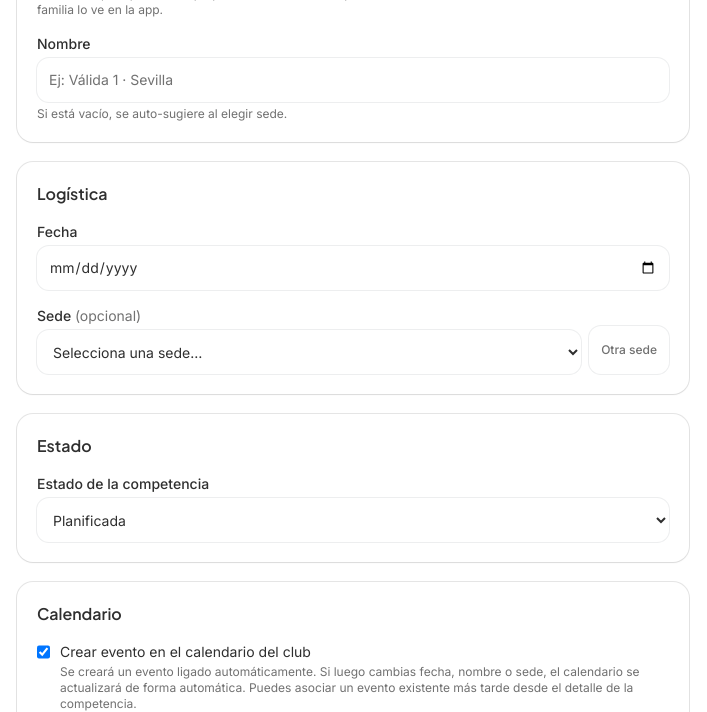
Scenario: CompetitionFormPage — mode=create › seleccionar Cali auto-completa altitud=1000 msnm en campo readonly
(page scrolled)
Select "Cali (1000 msnm)" in the dropdown labelled "Sede (opcional)" at (309, 352), box [37, 330, 581, 374]
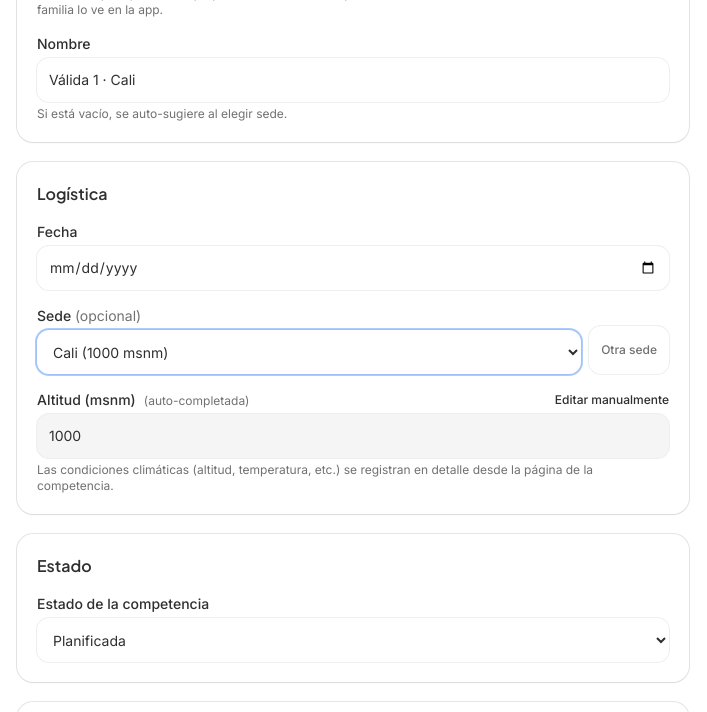
Expected: the number field named "Altitud en metros sobre el nivel del mar" holds "1000", [37, 414, 669, 458]
